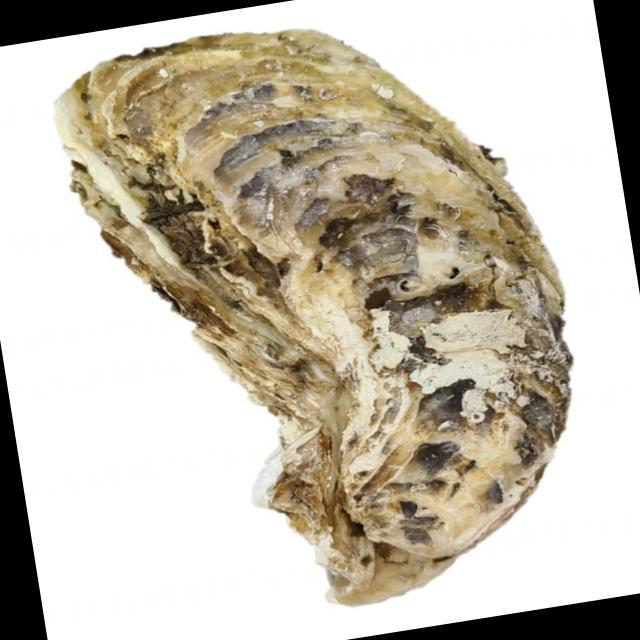Oyster- Indeterminate: (52, 29, 574, 607)
